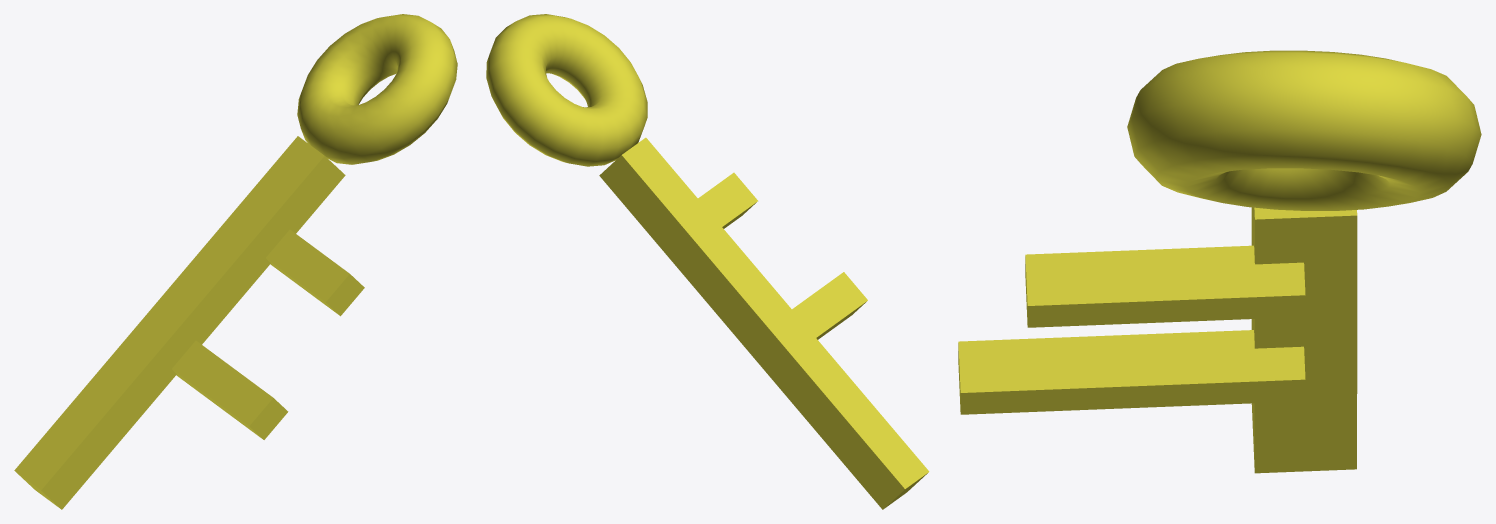
The model's file is Key.FBX.
The picture shows the model from 3 angles, left to right: view 1: azimuth 30°, elevation 25°; view 2: azimuth 150°, elevation 25°; view 3: azimuth 270°, elevation 25°; orthographic projection. The views are drawn at different scales.
Parts seen in each view (by area): view 1: Box001, Torus001, Box003, Box002; view 2: Box001, Torus001, Box003, Box002; view 3: Torus001, Box003, Box001, Box002.
Boxes of the visible parts, <box> form: Box001: <box>14,136,345,509</box>; Torus001: <box>297,14,457,164</box>; Box003: <box>172,340,288,439</box>; Box002: <box>266,229,364,316</box>; Box001: <box>599,137,929,509</box>; Torus001: <box>486,14,647,166</box>; Box003: <box>792,272,867,339</box>; Box002: <box>698,172,757,228</box>; Torus001: <box>1127,50,1481,210</box>; Box003: <box>958,330,1305,414</box>; Box001: <box>1251,207,1357,473</box>; Box002: <box>1025,245,1305,327</box>.
Bounding box in the file's own units: 1.17 × 1.04 × 0.6344.
